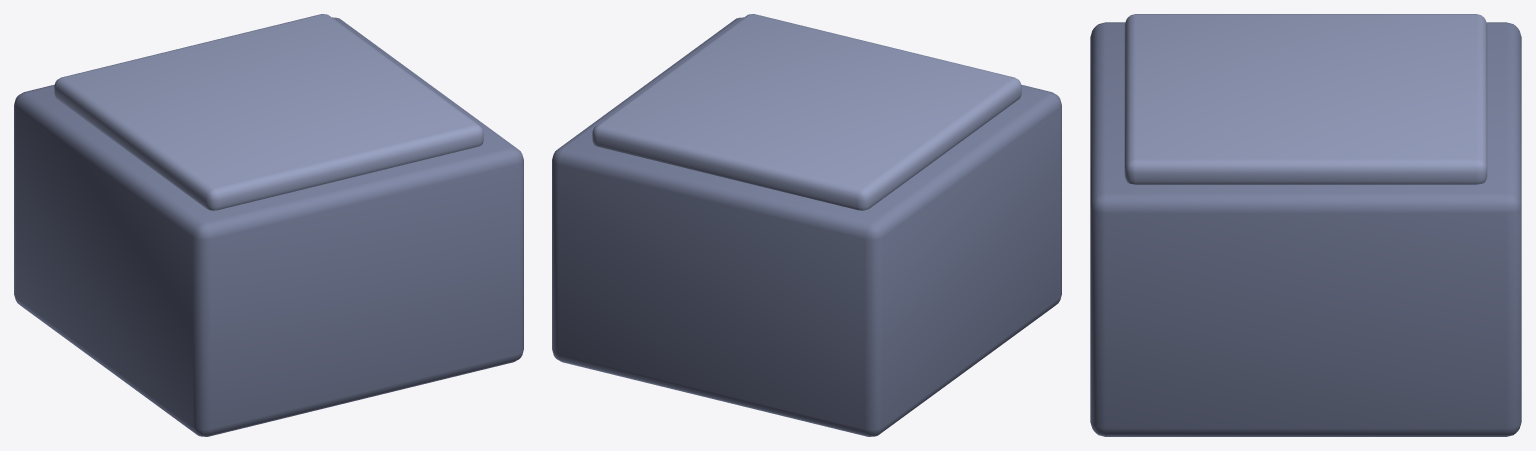
File: WallBlock.fbx
3 renders of one model, left to right at view 1: azimuth 30°, elevation 25°; view 2: azimuth 150°, elevation 25°; view 3: azimuth 270°, elevation 25°, orthographic. The views are drawn at different scales.
Visible parts, largest first — view 1: Body, Cap; view 2: Body, Cap; view 3: Body, Cap.
Boxes of the visible parts, <box> form: Body: <box>14,17,523,436</box>; Cap: <box>54,14,483,210</box>; Body: <box>552,17,1061,436</box>; Cap: <box>592,14,1021,210</box>; Body: <box>1090,22,1521,436</box>; Cap: <box>1124,14,1487,184</box>.
Size of the model in its own units: 1 by 0.675 by 1.
